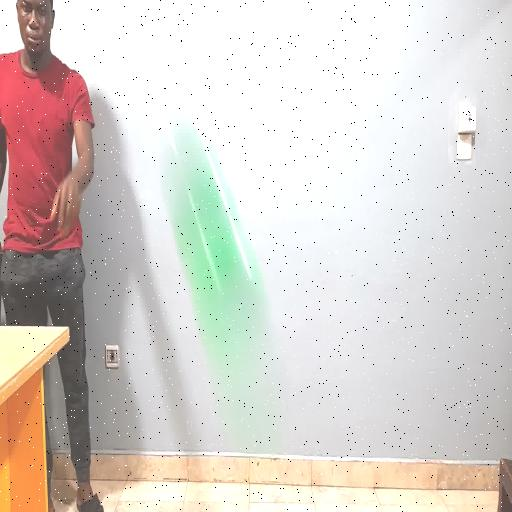plastic-ball: (154, 112, 286, 458)
